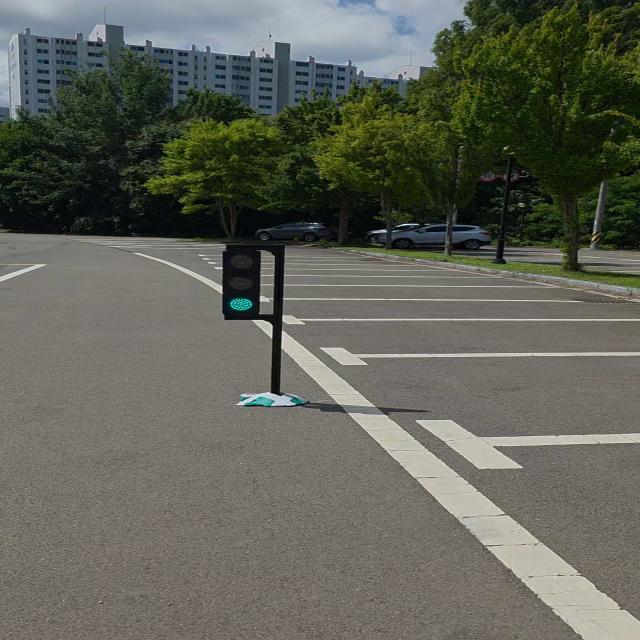green: (218, 245, 264, 318)
